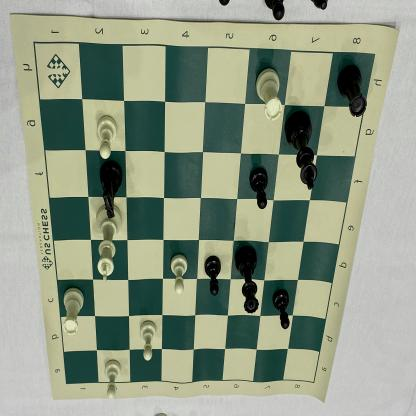black-king: (281, 108, 319, 193)
black-knight: (96, 160, 126, 220)
black-pawn: (248, 162, 271, 212), (272, 286, 292, 334), (202, 253, 222, 298)
black-queen: (234, 245, 259, 318)
black-rook: (337, 62, 368, 121), (253, 67, 283, 124)
white-king: (93, 203, 123, 287)
white-pawn: (94, 114, 118, 160), (168, 250, 190, 297), (137, 319, 158, 364), (102, 358, 122, 401)
white-rook: (60, 288, 86, 336)
